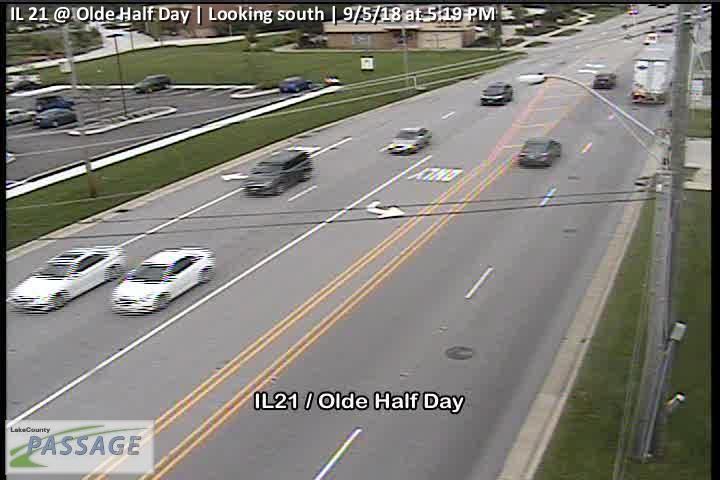SUV: (241, 149, 313, 196), (479, 81, 514, 106), (133, 74, 172, 94)
Sedan: (9, 244, 127, 314), (110, 246, 216, 315), (518, 136, 562, 166), (386, 126, 433, 154), (32, 108, 78, 127), (5, 107, 37, 126), (279, 76, 313, 92), (593, 71, 616, 89)
Truck: (630, 34, 684, 105)
